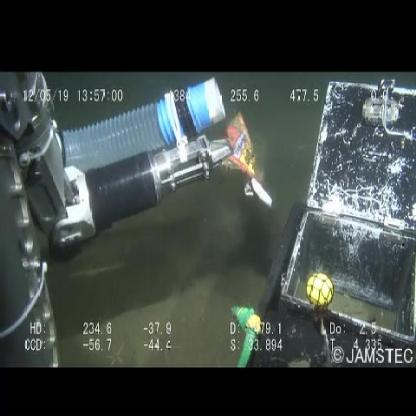Rov: (2, 74, 227, 366), (282, 73, 416, 367)
Rác: (223, 110, 281, 224)
